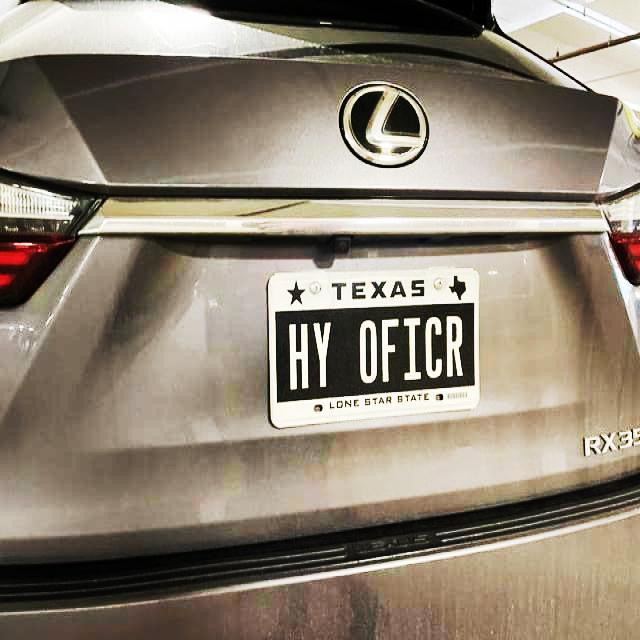license_plate: (258, 261, 492, 443)
